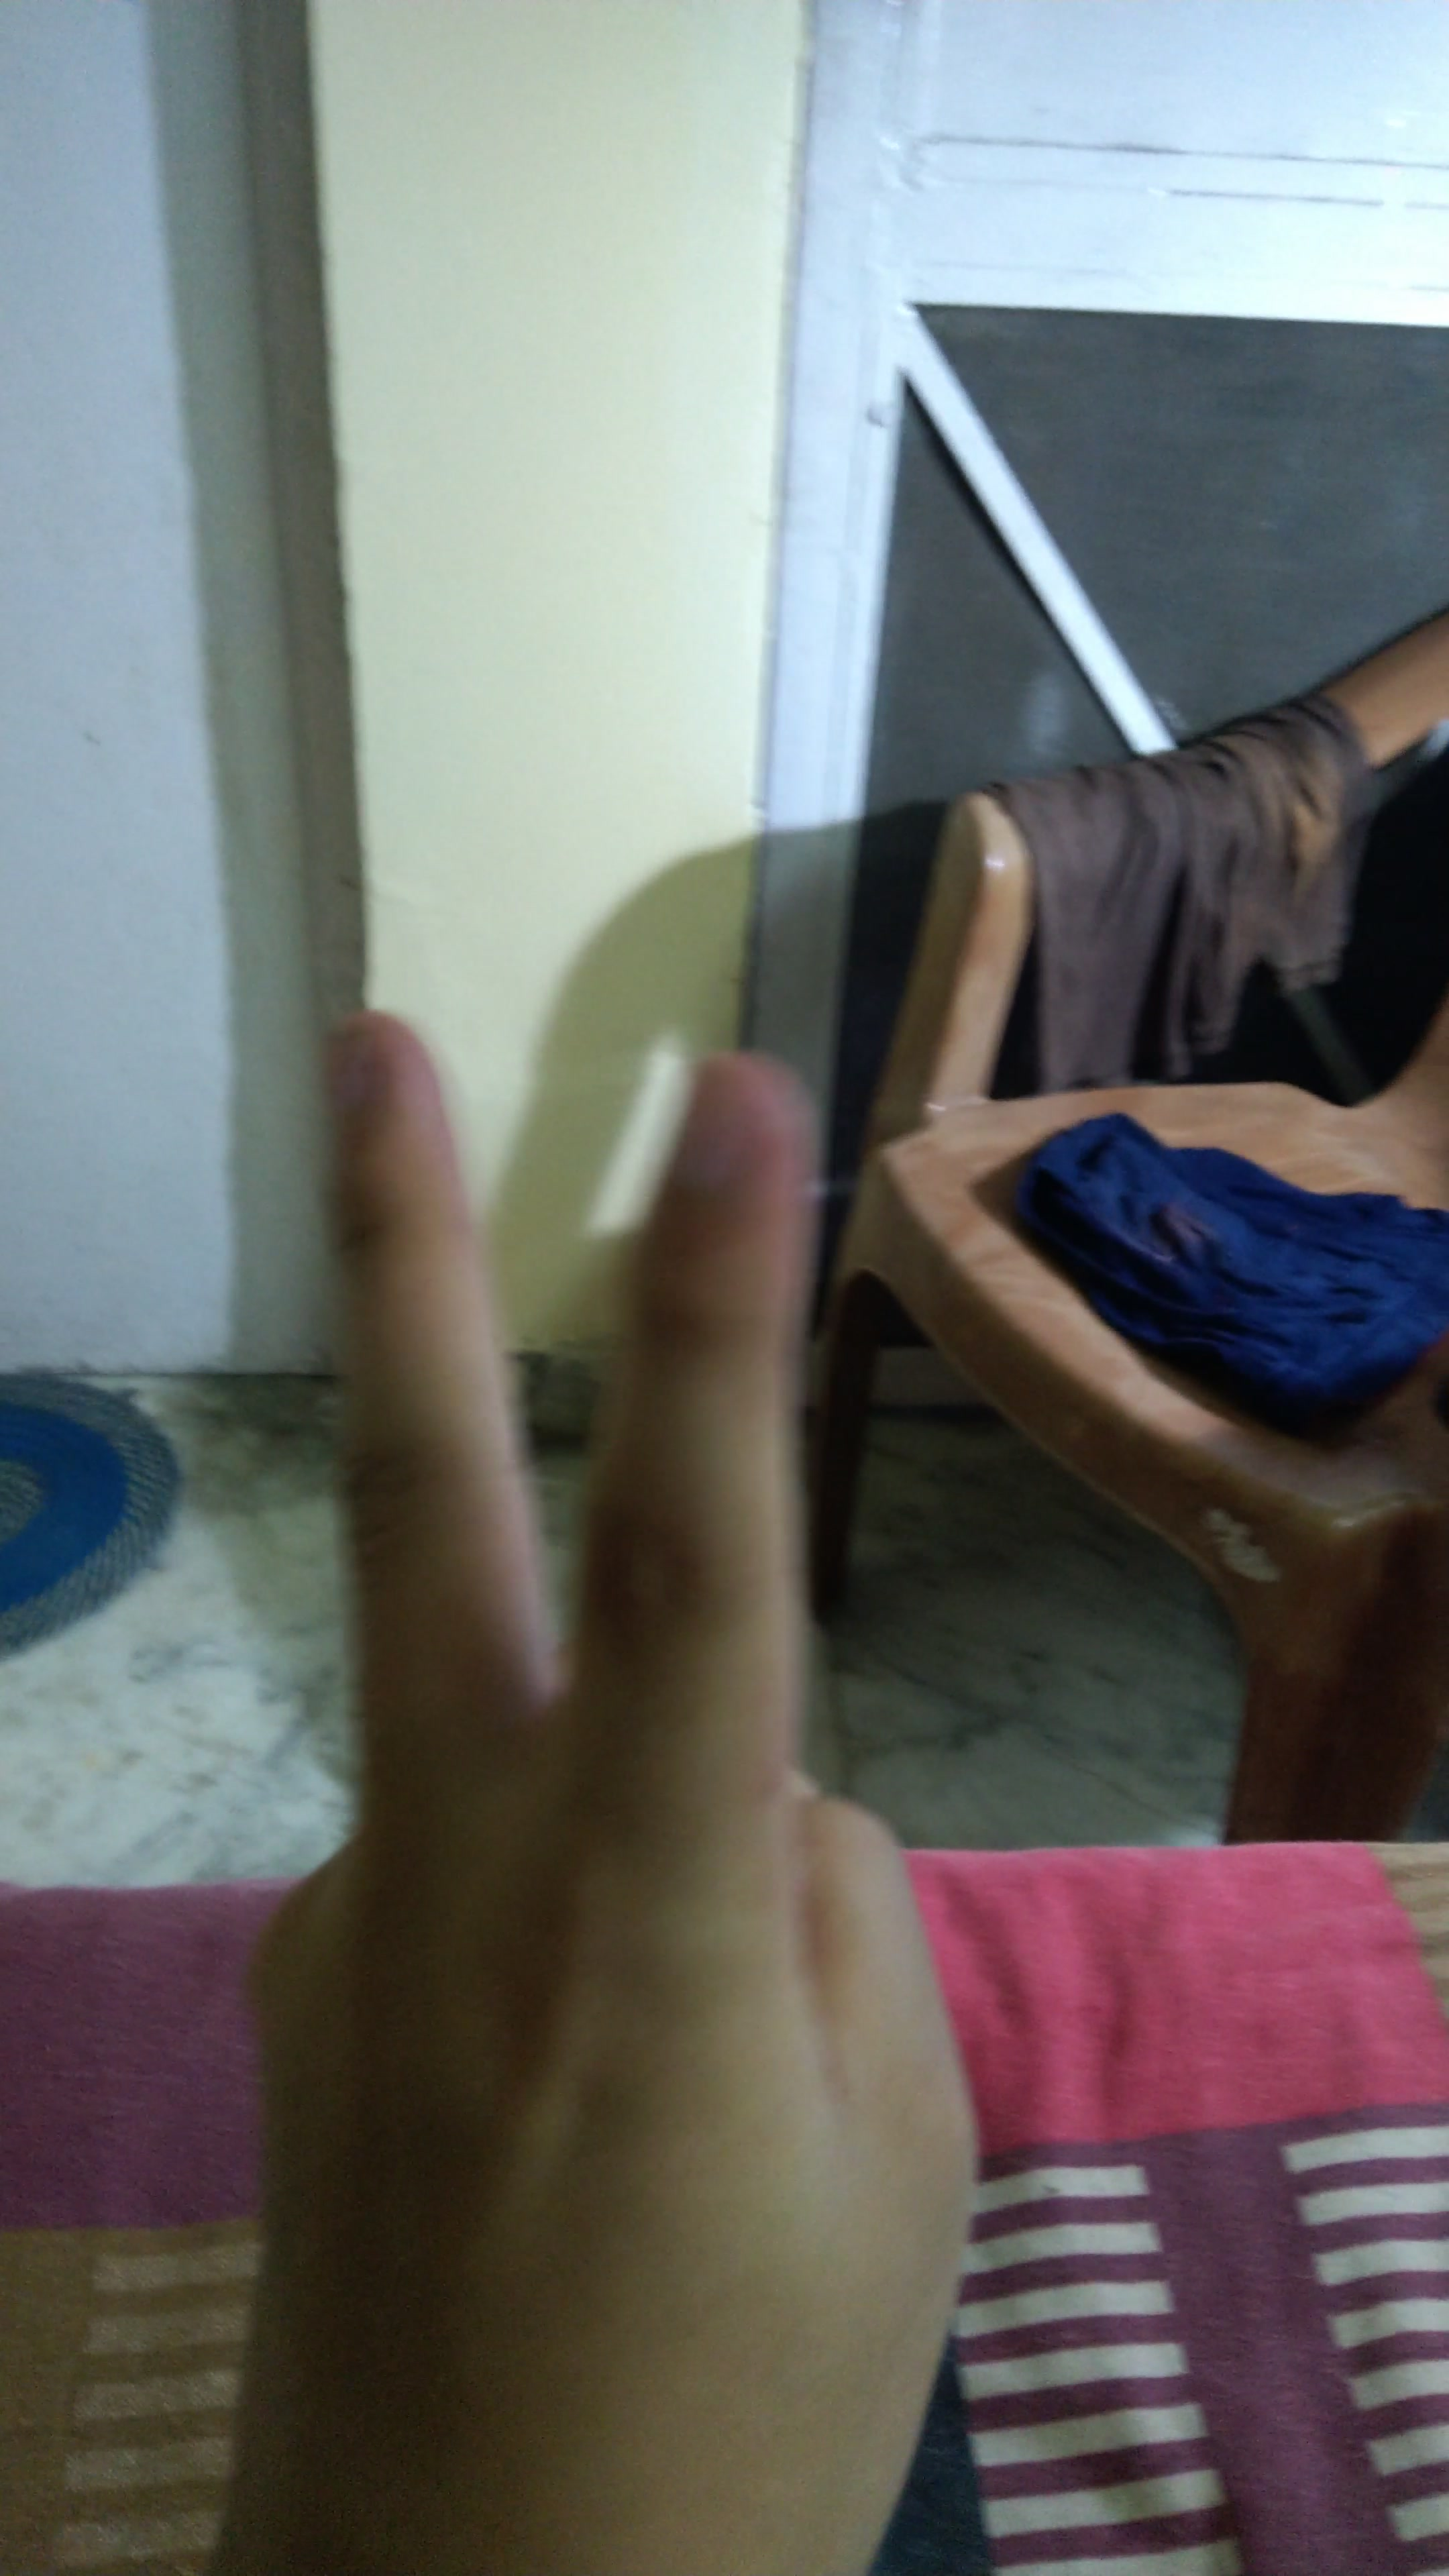hand: (94, 991, 1173, 2514)
